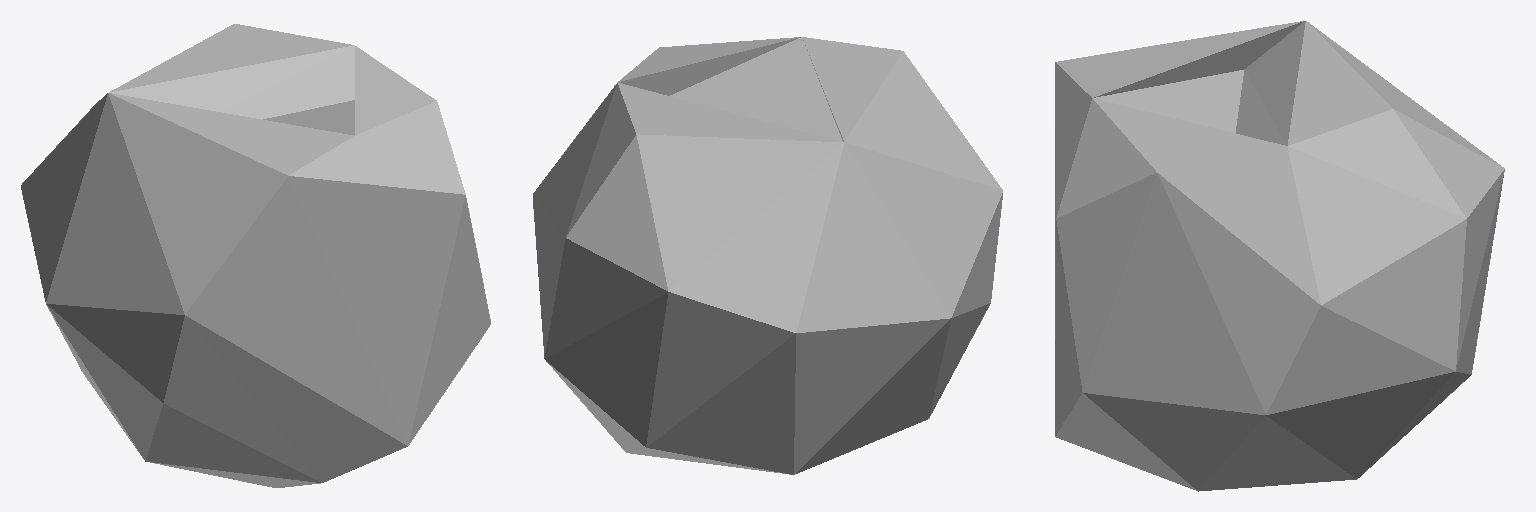
URDF robot description (root):
<?xml version='1.0' encoding='utf-8'?>
<robot name="root">
  <link name="link_001">
    <visual>
      <origin xyz="0 0 0" rpy="0 0 0" />
      <geometry>
        <mesh filename="cfc84a6de712d2f7df1e71c8a4b4e8f950432680315380b2560df47fe04357eb_scale_071.stl" scale="1.0000E+00 1.0000E+00 1.0000E+00" />
      </geometry>
      <material name="">
        <color rgba="7.50E-01 7.50E-01 7.50E-01 1" />
      </material>
    </visual>
    <collision>
      <origin xyz="0 0 0" rpy="0 0 0" />
      <geometry>
        <mesh filename="cfc84a6de712d2f7df1e71c8a4b4e8f950432680315380b2560df47fe04357eb_scale_071.stl" scale="1.0000E+00 1.0000E+00 1.0000E+00" />
      </geometry>
    </collision>
  </link>
</robot>

--- Facts derived from the render (not from the file) ---
The picture shows the robot from 3 angles, left to right: view 1: azimuth 30°, elevation 25°; view 2: azimuth 150°, elevation 25°; view 3: azimuth 270°, elevation 25°; orthographic projection.
Model root with 1 links and 0 joints (none), rooted at link_001, posed all joints at 0.
Visible links, largest first — view 1: link_001; view 2: link_001; view 3: link_001.
Boxes of the visible links, bbox=[...] form: link_001: bbox=[21, 24, 490, 487]; link_001: bbox=[533, 37, 1002, 474]; link_001: bbox=[1055, 21, 1504, 491].
Size in the robot's own frame: 0.1047 by 0.0957 by 0.0926 metres.
1 mesh visuals loaded from 1 distinct referenced files (1 binary STL).
